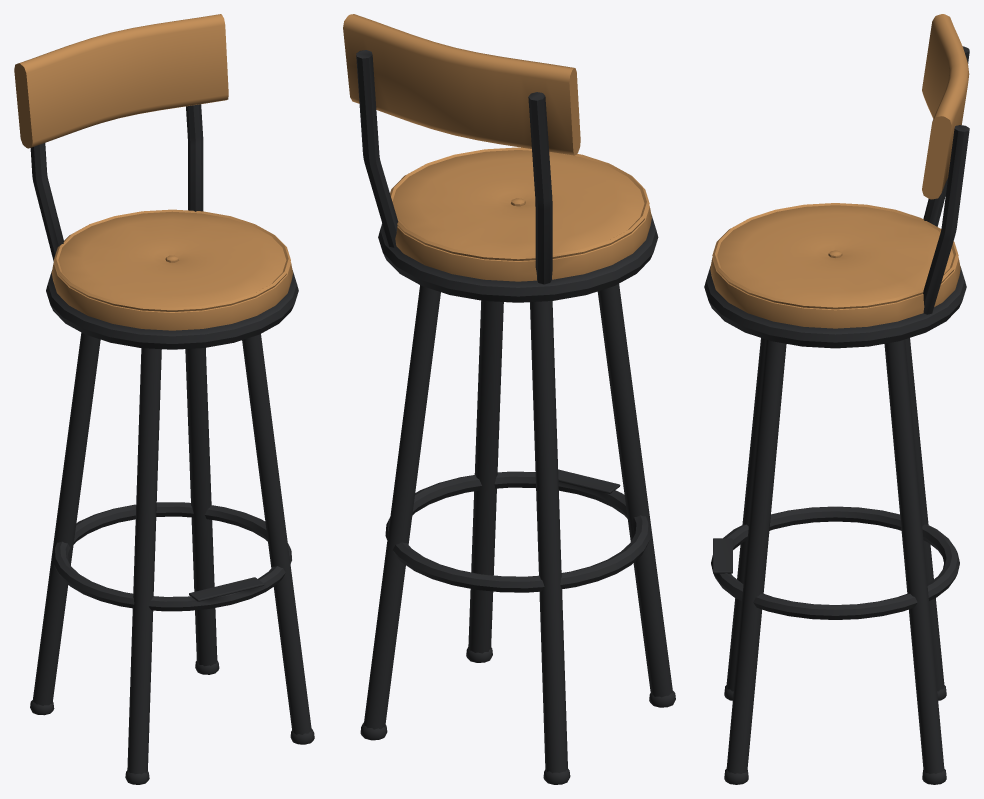
The model's file is stoolBarHigh.glb.
3 views of the same model, side by side, from view 1: azimuth 30°, elevation 25°; view 2: azimuth 150°, elevation 25°; view 3: azimuth 270°, elevation 25° (orthographic). The views are drawn at different scales.
Parts seen in each view (by area): view 1: seat, base; view 2: seat, base; view 3: seat, base.
Part boxes in pixels (<box>): seat: <box>14,14,298,349</box>; base: <box>30,332,314,784</box>; seat: <box>343,14,658,302</box>; base: <box>360,284,675,784</box>; seat: <box>704,14,969,348</box>; base: <box>711,338,959,784</box>.
Bounding box in the file's own units: 0.394 × 1.11 × 0.3985.
